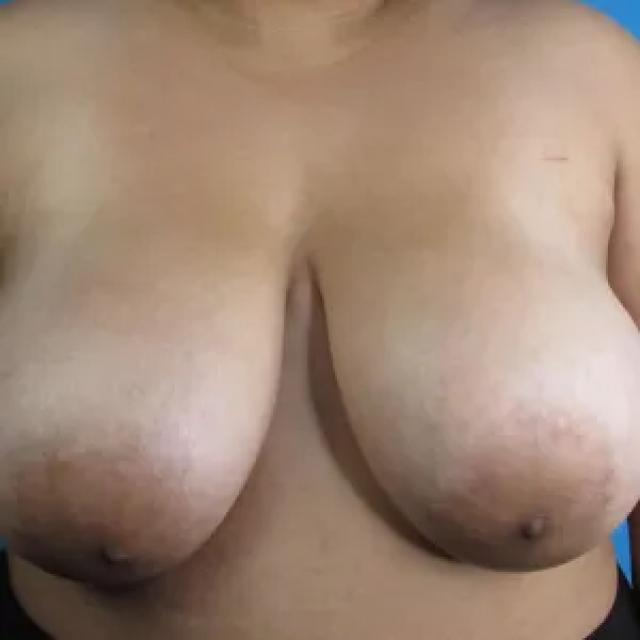Seno ileso: (311, 188, 639, 598), (0, 186, 297, 612)
